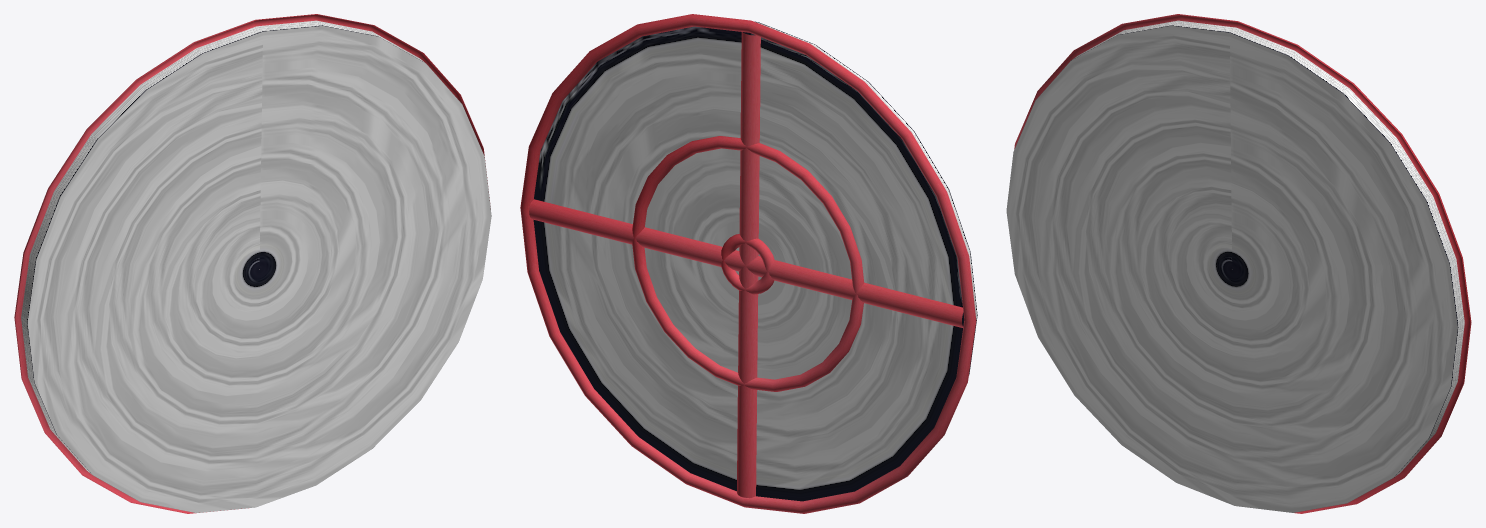
The model's file is target.glb.
3 renders of one model, left to right at view 1: azimuth 30°, elevation 25°; view 2: azimuth 150°, elevation 25°; view 3: azimuth 330°, elevation 25°, orthographic. The views are drawn at different scales.
Parts seen in each view (by area): view 1: Cylinder, Torus2; view 2: Cylinder, Torus2, Torus1, Cylinder2, Cylinder1, Torus; view 3: Cylinder, Torus2.
Boxes of the visible parts, x1,y1,x2,y2 form: Cylinder: [21, 20, 491, 512]; Torus2: [14, 14, 490, 513]; Cylinder: [533, 21, 977, 501]; Torus2: [520, 14, 976, 513]; Torus1: [632, 136, 864, 391]; Cylinder2: [737, 32, 760, 498]; Cylinder1: [529, 199, 963, 327]; Torus: [721, 234, 774, 294]; Cylinder: [1006, 20, 1464, 512]; Torus2: [1014, 14, 1471, 513].
Size of the model in its own units: 4.1 by 4.1 by 0.273.
Materials: 2 (2 with a texture image).
